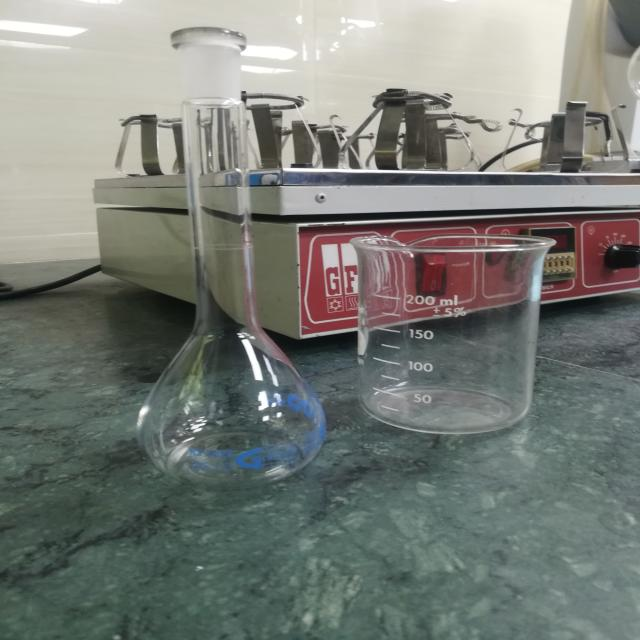Beaker: (342, 192, 564, 452)
Volumetric_Flask: (125, 0, 339, 510)
